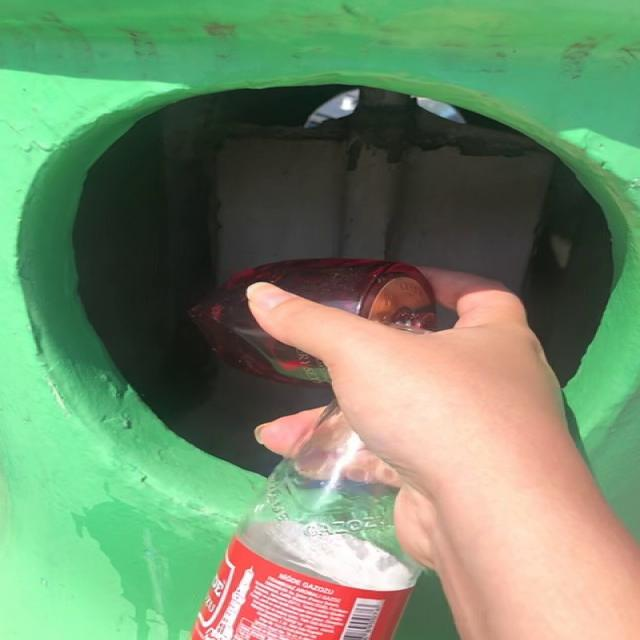glass: (192, 401, 421, 640), (193, 258, 436, 382)
